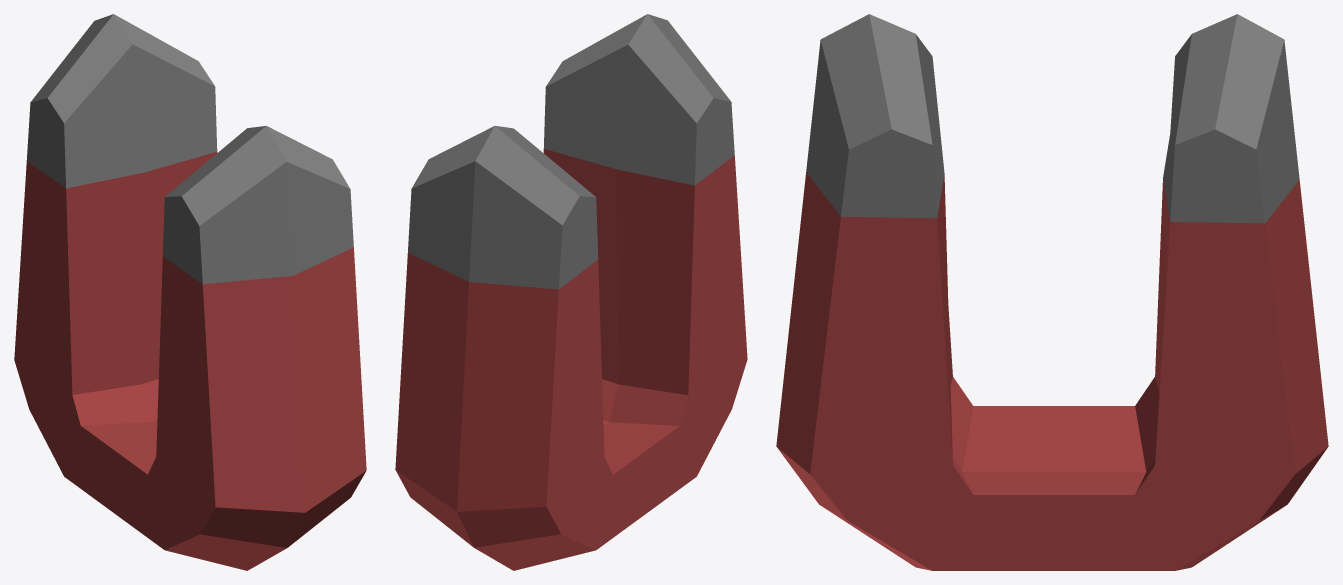
The model's file is iman1.fbx.
3 renders of one model, left to right at view 1: azimuth 30°, elevation 25°; view 2: azimuth 150°, elevation 25°; view 3: azimuth 270°, elevation 25°, orthographic. The views are drawn at different scales.
Parts seen in each view (by area): view 1: Iman; view 2: Iman; view 3: Iman.
Boxes of the visible parts, x1,y1,x2,y2 form: Iman: (14, 14, 366, 570); Iman: (395, 14, 747, 570); Iman: (776, 14, 1328, 570).
Size of the model in its own units: 19.57 by 56.83 by 51.4.
